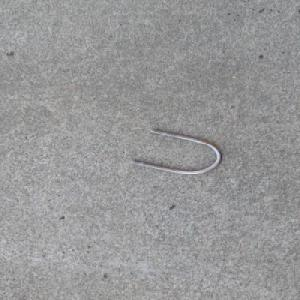ClampPart: (128, 128, 223, 175)
